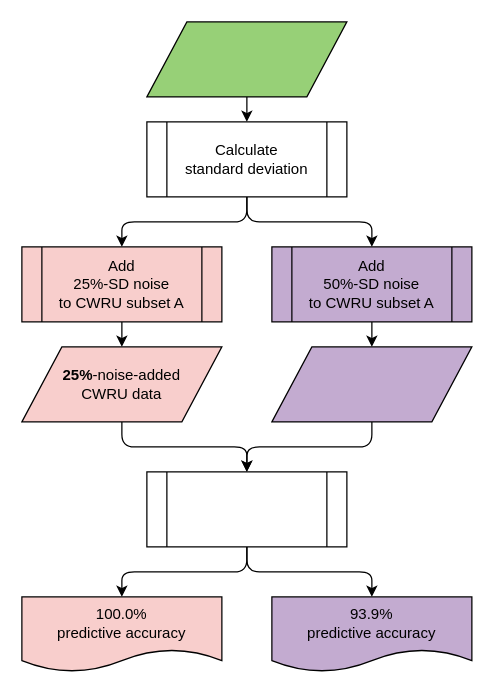
This 494x694 diagram has some shape labels left out. The shapes that lost their labels are listed below. From the top down, each one's centre as x and y in pixels, then its label:
At [246,59]: "CWRU subset A".
At [371,384]: "50 %-noise-added CWRU data".
At [246,509]: "Test on the ANN model trained on CWRU subset A".
